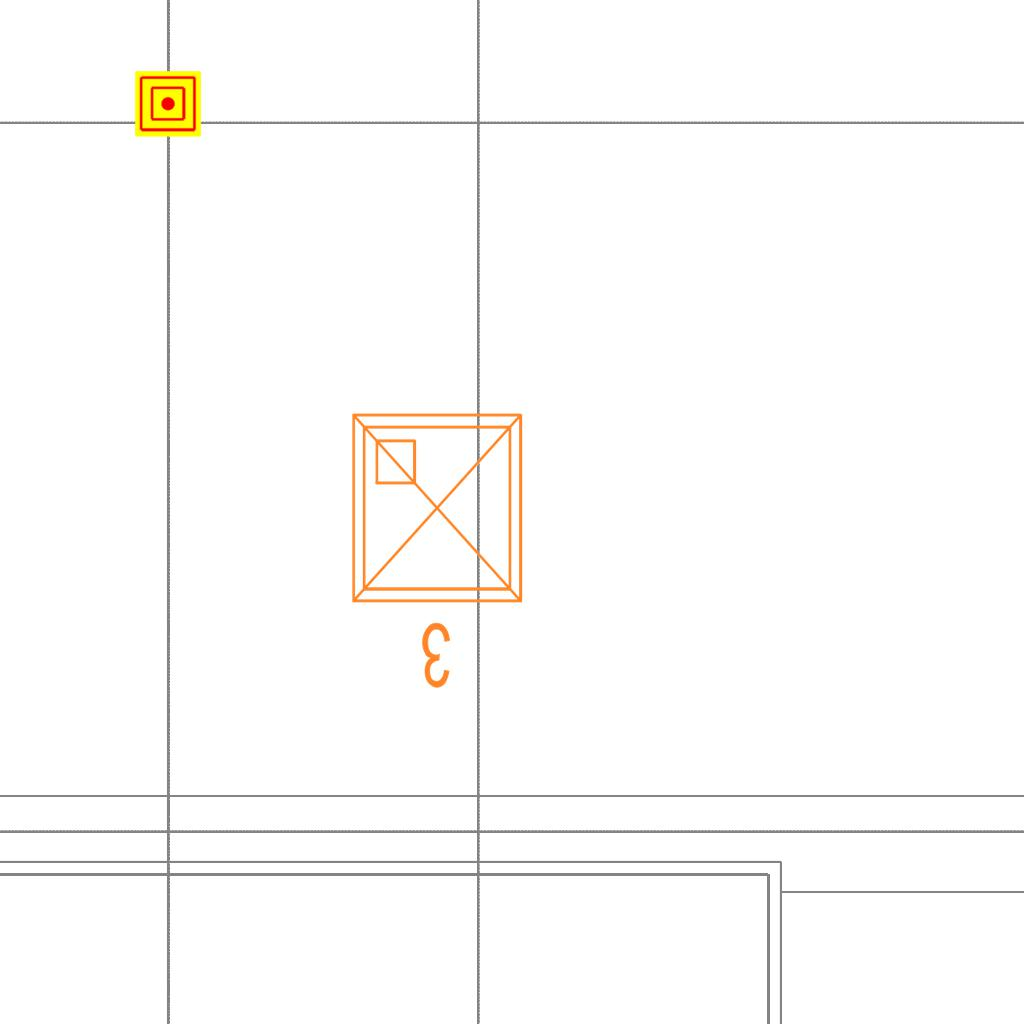Einbaudownlights_LED_Konferenzraeume: (337, 399, 545, 699)
NAM-Nichtautomatischer_Melder: (135, 71, 201, 137)
